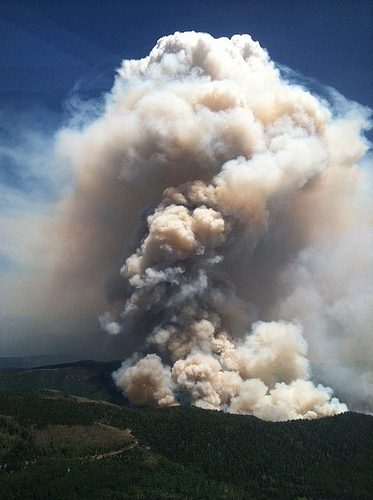smoke: (89, 26, 357, 406)
